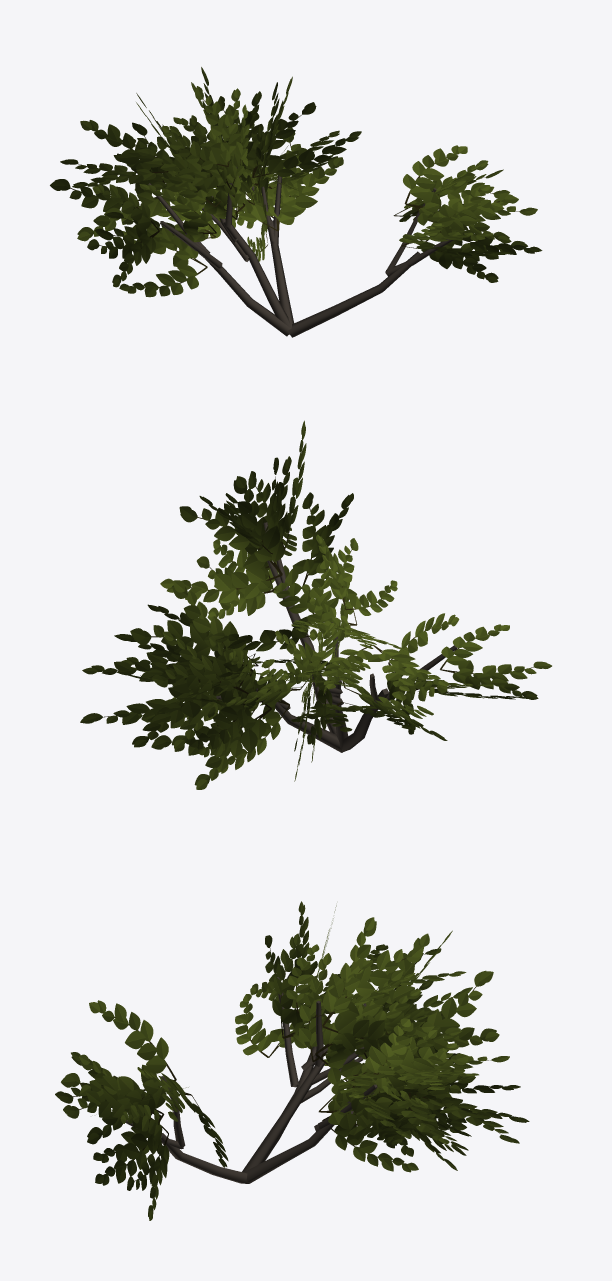
Rendered from bush_3_burnt2.glb.
3 views of the same model, one above another, from view 1: azimuth 30°, elevation 25°; view 2: azimuth 150°, elevation 25°; view 3: azimuth 270°, elevation 25° (orthographic). The views are drawn at different scales.
Visible parts, largest first — view 1: bush_3_burnt2; view 2: bush_3_burnt2; view 3: bush_3_burnt2.
Boxes of the visible parts, <box> form: bush_3_burnt2: <box>50,67,542,337</box>; bush_3_burnt2: <box>80,420,551,789</box>; bush_3_burnt2: <box>55,901,529,1220</box>.
Bounding box in the file's own units: 2.77 × 1.63 × 2.88.
2 materials, 1 textured.
